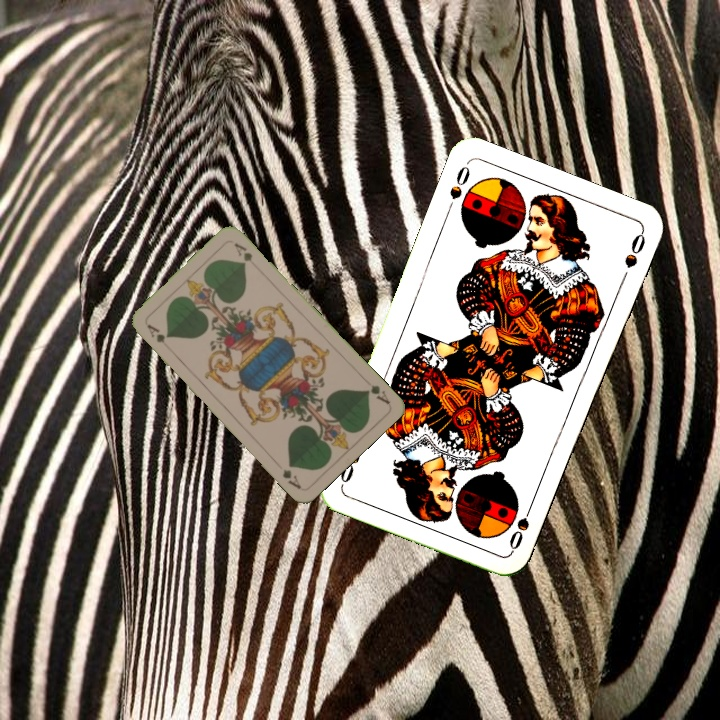GA: (143, 320, 174, 353), (361, 381, 392, 407)
SO: (505, 497, 537, 553), (442, 159, 473, 216)
